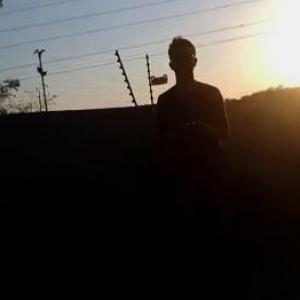follow: (153, 31, 240, 299)
